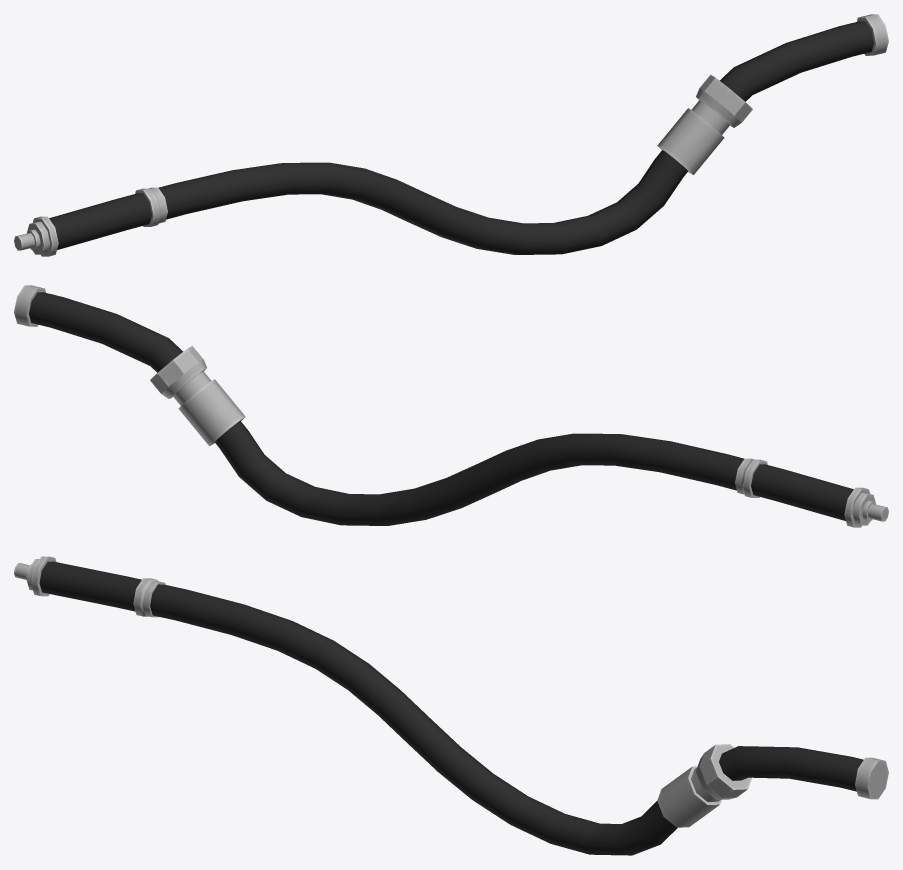
File: ElectricalWires03_04.glb
3 renders of one model, top to bottom at view 1: azimuth 30°, elevation 25°; view 2: azimuth 150°, elevation 25°; view 3: azimuth 330°, elevation 25°, orthographic.
Parts seen in each view (by area): view 1: NurbsPath_003; view 2: NurbsPath_003; view 3: NurbsPath_003.
Part boxes in pixels (x1,y1,x2,y2): NurbsPath_003: [14, 14, 888, 256]; NurbsPath_003: [14, 285, 888, 527]; NurbsPath_003: [14, 556, 888, 855].
Bounding box in the file's own units: 3.63 × 0.6697 × 0.2013.
Materials: 1 (1 with a texture image).
